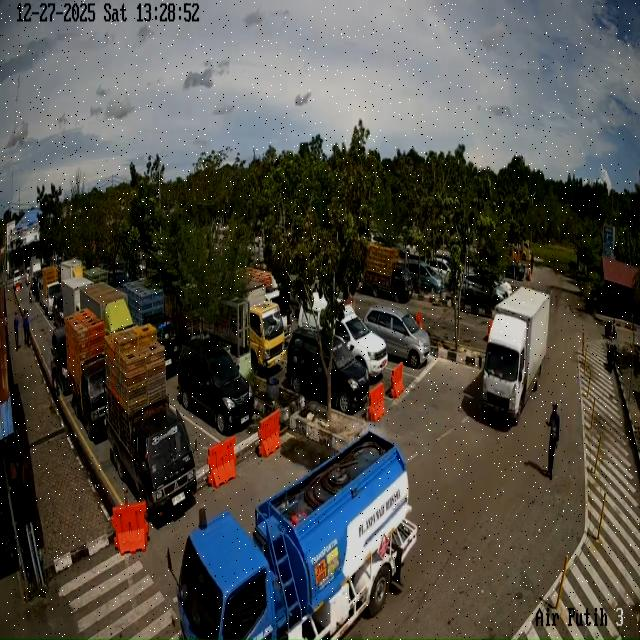Golongan IVA: (298, 293, 388, 377), (178, 339, 255, 435), (286, 328, 370, 413), (364, 306, 431, 368), (462, 273, 509, 307), (51, 326, 71, 395)
Golongan IVB: (105, 391, 196, 522), (64, 355, 106, 440), (363, 243, 413, 303), (40, 266, 61, 318)
Golongan VB: (168, 432, 417, 640), (482, 287, 550, 423), (80, 282, 132, 324)
